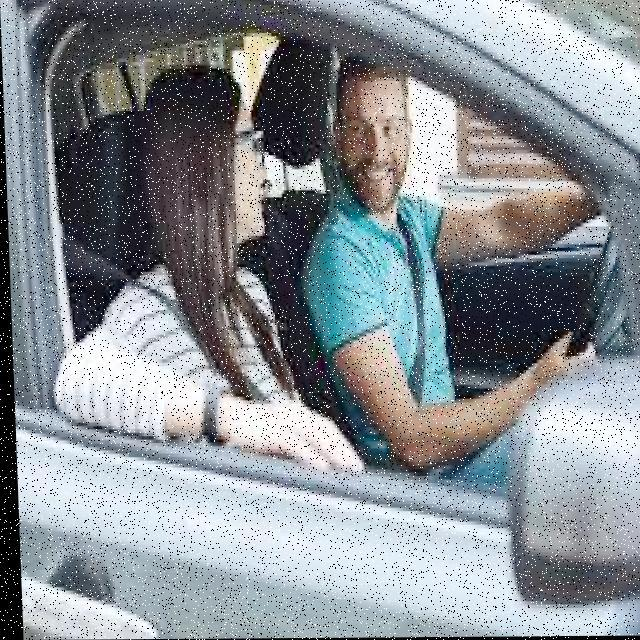seatbelt: (70, 230, 272, 425), (338, 194, 458, 420)
